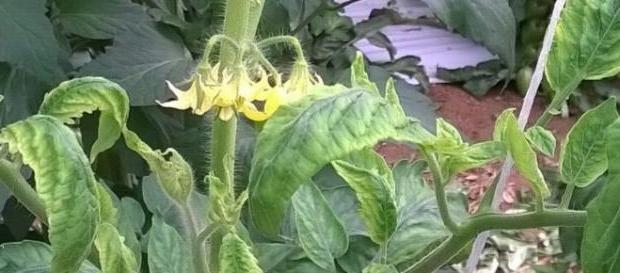Tomato leaf yellow virus: (245, 86, 407, 236), (9, 111, 110, 268)
